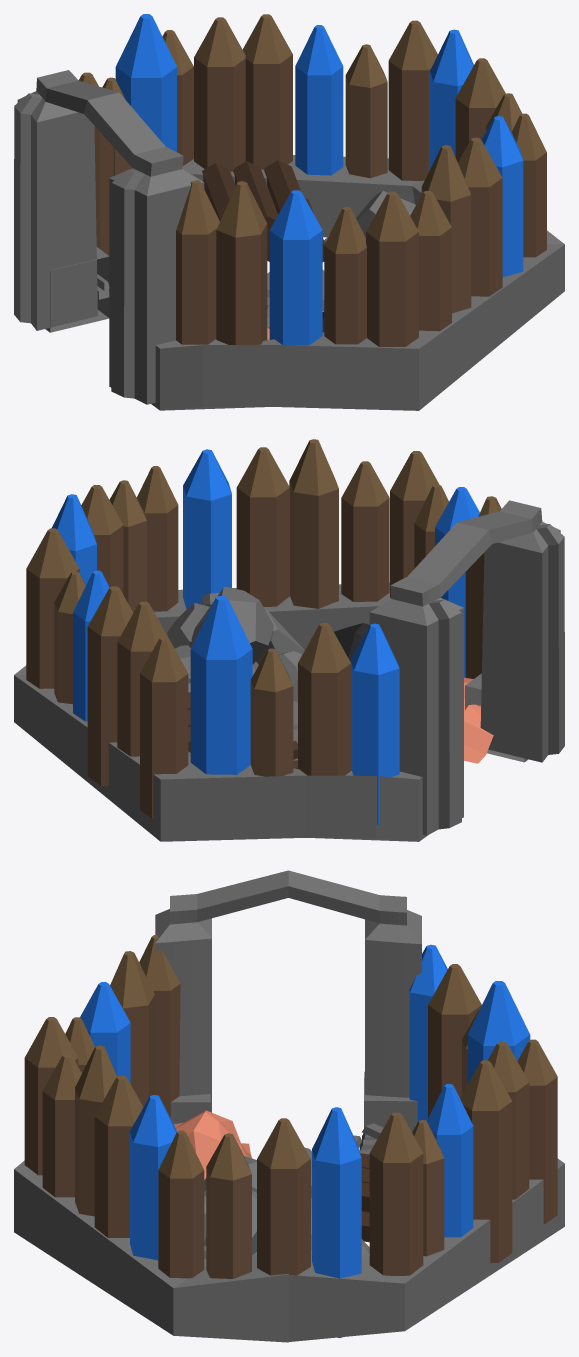
The model's file is Storage LvL 3.fbx.
3 renders of one model, top to bottom at view 1: azimuth 30°, elevation 25°; view 2: azimuth 150°, elevation 25°; view 3: azimuth 270°, elevation 25°, orthographic.
Visible parts, largest first — view 1: Coal.002, Team Color Obj.009; view 2: Coal.002, Team Color Obj.009; view 3: Coal.002, Team Color Obj.009.
Part boxes in pixels (left/top/right/bottom): Coal.002: left=14, top=14, right=564, bottom=410; Team Color Obj.009: left=115, top=14, right=523, bottom=345; Coal.002: left=14, top=439, right=564, bottom=841; Team Color Obj.009: left=52, top=449, right=479, bottom=824; Coal.002: left=14, top=870, right=564, bottom=1342; Team Color Obj.009: left=80, top=944, right=530, bottom=1337.
Bounding box in the file's own units: 186 × 109 × 197.
